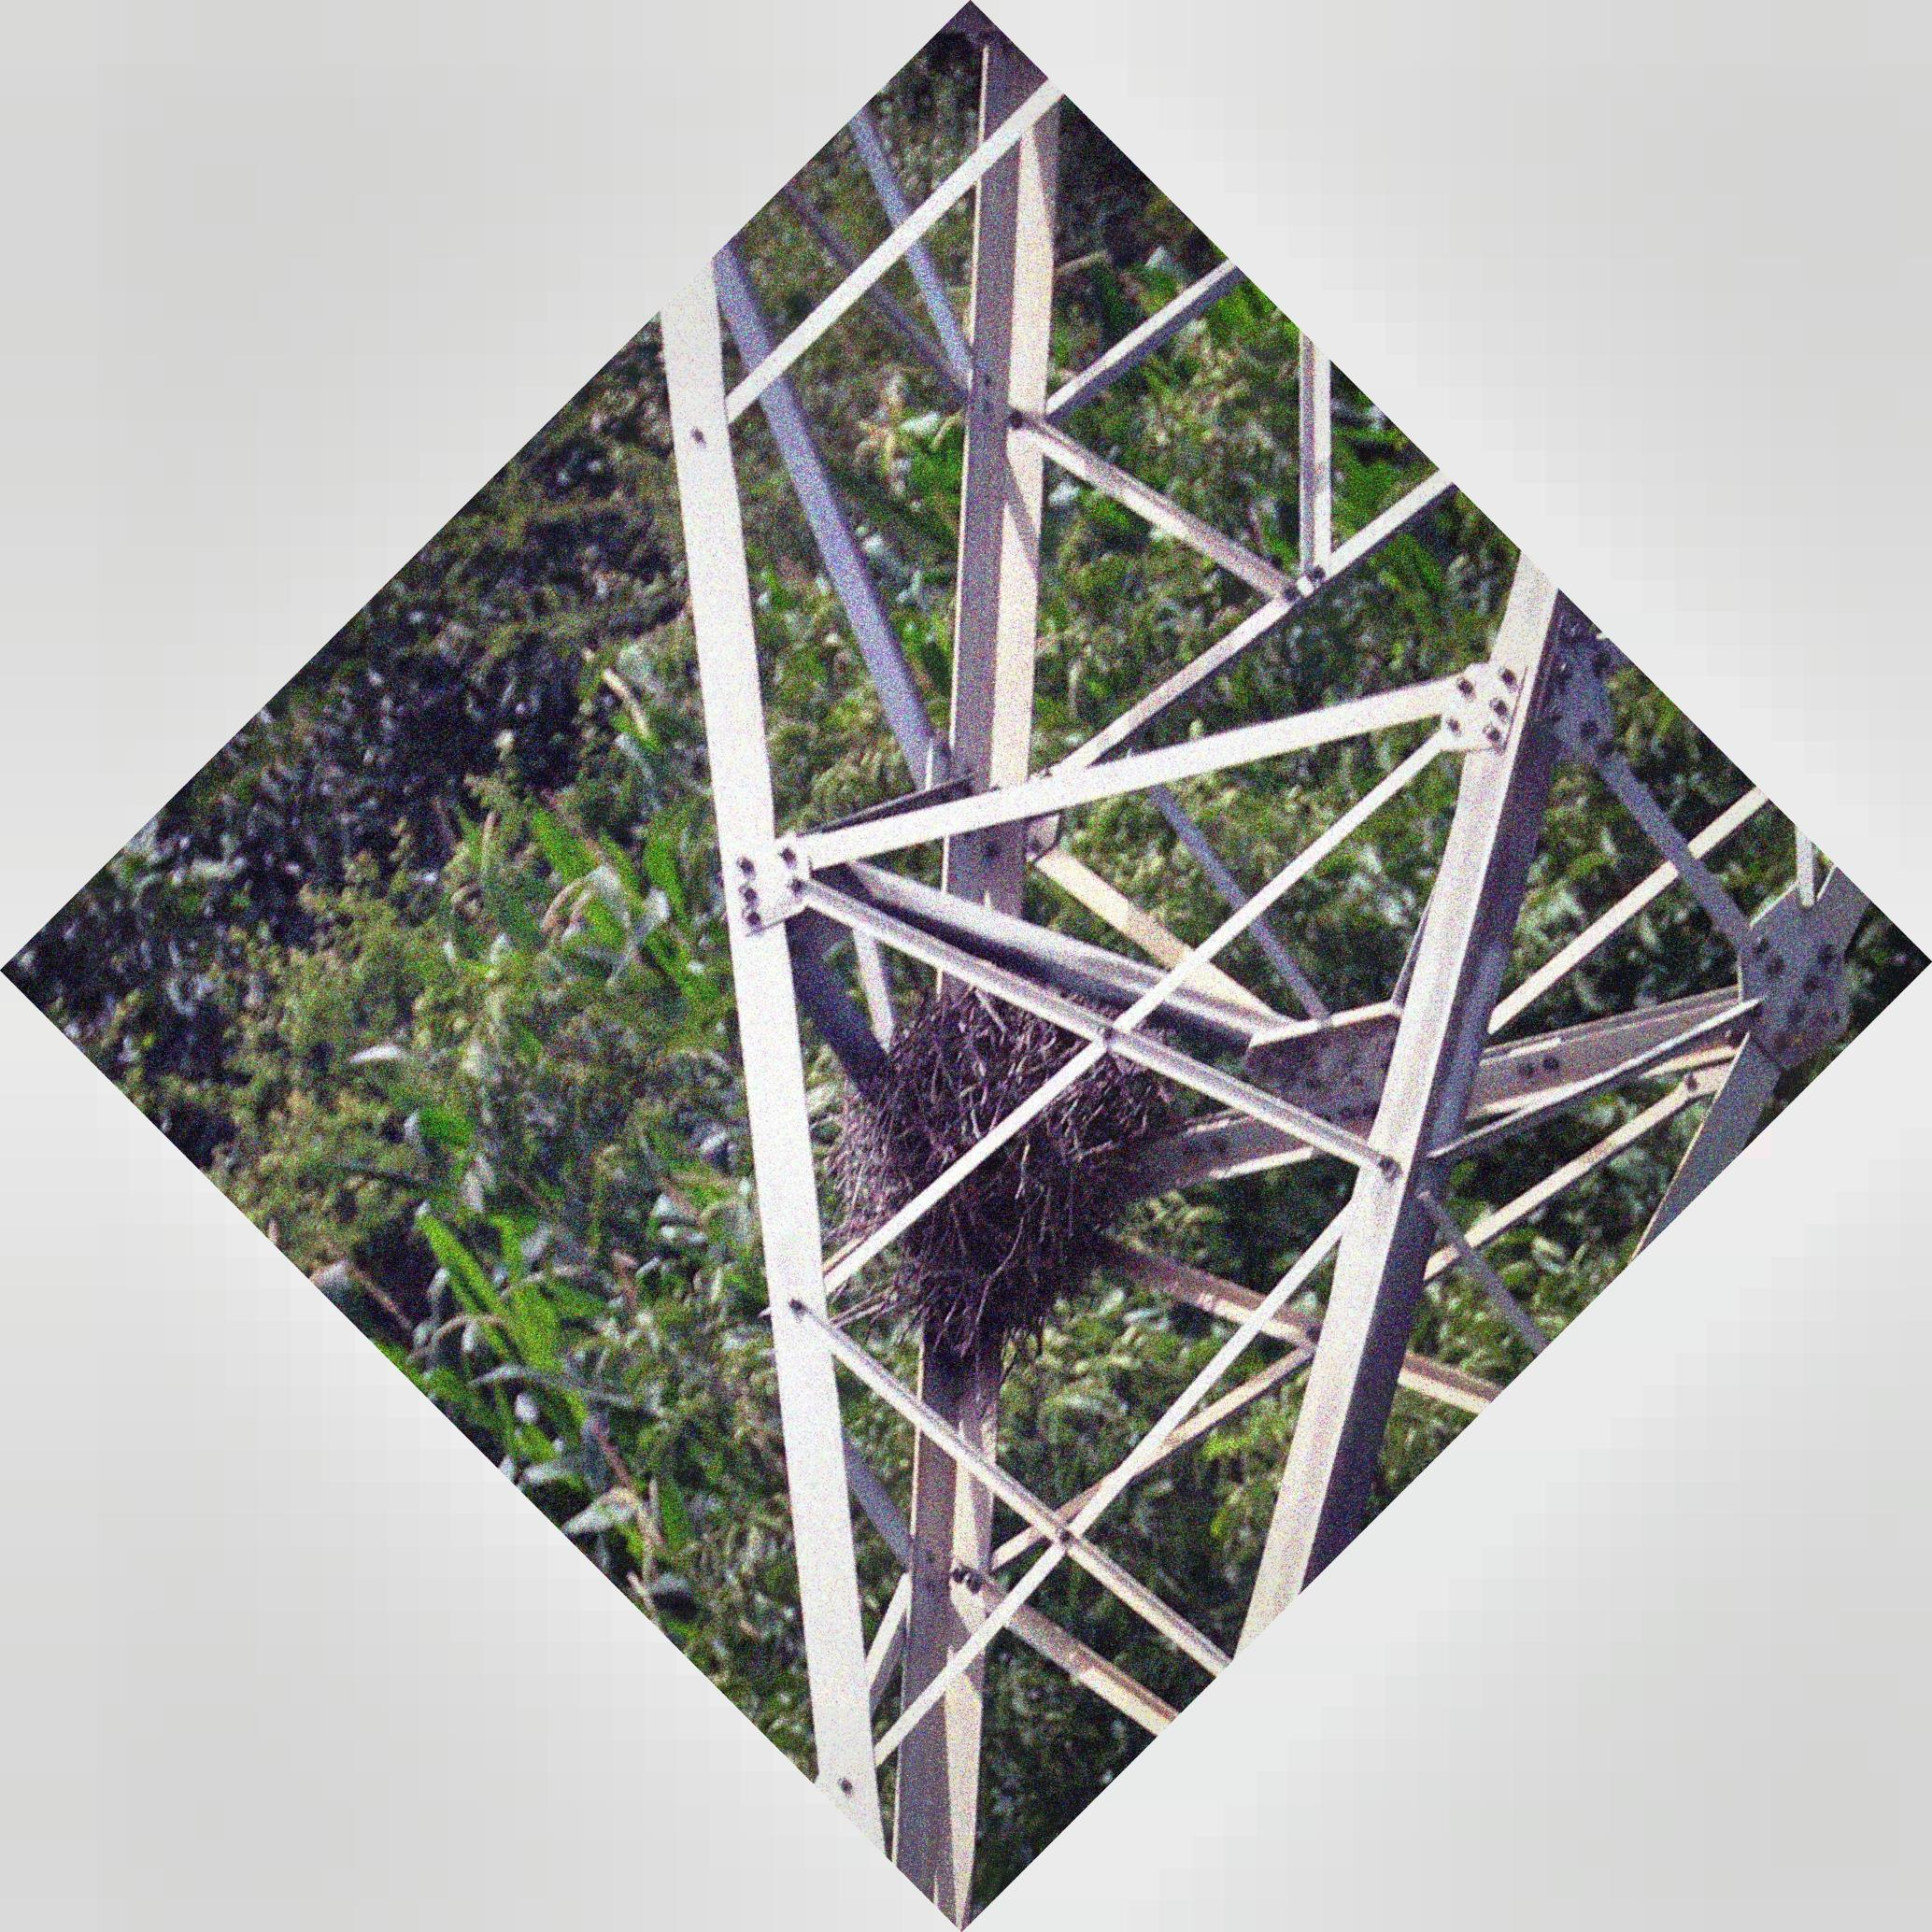niaowo: (770, 980, 1228, 1380)
